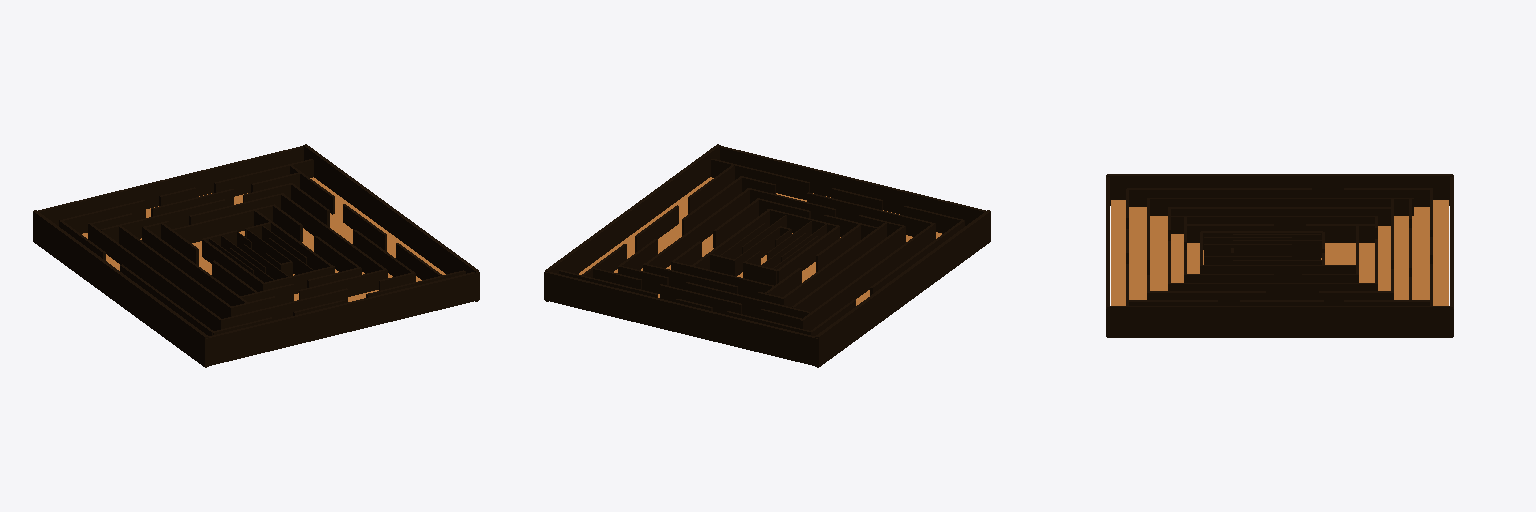
Rendered from maze.obj.
3 renders of one model, left to right at view 1: azimuth 30°, elevation 25°; view 2: azimuth 150°, elevation 25°; view 3: azimuth 270°, elevation 25°, orthographic.
Visible parts, largest first — view 1: Cube_145_Cube.002, Cube_145_002_Cube.013, Cube_145_001_Cube.011, Cube_145_003_Cube.012, Cube_145.037_Cube.028, Cube_145.018_Cube.057, Cube_Cube.004, Cube_145.021_Cube.061, Cube_145.024_Cube.064, Cube_145.026_Cube.066, Cube_145.009_Cube.051, Cube_145.017_Cube.056 (+19 smaller); view 2: Cube_145_001_Cube.011, Cube_145_002_Cube.013, Cube_145_Cube.002, Cube_145_003_Cube.012, Cube_145.037_Cube.028, Cube_145.018_Cube.057, Cube_Cube.004, Cube_145.021_Cube.061, Cube_145.024_Cube.064, Cube_145.009_Cube.051, Cube_145.008_Cube.009, Cube_145.017_Cube.056 (+20 smaller); view 3: Cube_Cube.004, Cube_145_003_Cube.012, Cube_145_002_Cube.013, Cube_145.037_Cube.028, Cube_145.018_Cube.057, Cube_145.021_Cube.061, Cube_145.036_Cube.005, Cube_145.024_Cube.064, Cube_145.032_Cube.072, Cube_145.013_Cube.053, Cube_145.025_Cube.065, Cube_145.007_Cube.022 (+7 smaller).
Part boxes in pixels (left/top/right/bottom): Cube_145_Cube.002: left=206, top=272, right=479, bottom=366; Cube_145_002_Cube.013: left=33, top=210, right=208, bottom=367; Cube_145_001_Cube.011: left=38, top=146, right=303, bottom=225; Cube_145_003_Cube.012: left=303, top=144, right=478, bottom=301; Cube_145.037_Cube.028: left=88, top=223, right=222, bottom=330; Cube_145.018_Cube.057: left=119, top=226, right=231, bottom=318; Cube_Cube.004: left=82, top=177, right=445, bottom=301; Cube_145.021_Cube.061: left=281, top=194, right=386, bottom=273; Cube_145.024_Cube.064: left=142, top=226, right=247, bottom=305; Cube_145.026_Cube.066: left=172, top=205, right=272, bottom=242; Cube_145.009_Cube.051: left=221, top=288, right=347, bottom=328; Cube_145.017_Cube.056: left=101, top=199, right=225, bottom=242; Cube_145_001_Cube.011: left=544, top=272, right=817, bottom=366; Cube_145_002_Cube.013: left=815, top=210, right=990, bottom=367; Cube_145_Cube.002: left=720, top=146, right=985, bottom=225; Cube_145_003_Cube.012: left=545, top=144, right=720, bottom=301; Cube_145.037_Cube.028: left=800, top=223, right=935, bottom=330; Cube_145.018_Cube.057: left=792, top=226, right=905, bottom=312; Cube_Cube.004: left=579, top=177, right=941, bottom=305; Cube_145.021_Cube.061: left=645, top=188, right=749, bottom=267; Cube_145.024_Cube.064: left=781, top=222, right=886, bottom=306; Cube_145.009_Cube.051: left=807, top=192, right=935, bottom=236; Cube_145.008_Cube.009: left=711, top=159, right=809, bottom=199; Cube_145.017_Cube.056: left=685, top=282, right=809, bottom=318; Cube_Cube.004: left=1111, top=200, right=1448, bottom=305; Cube_145_003_Cube.012: left=1107, top=306, right=1452, bottom=337; Cube_145_002_Cube.013: left=1107, top=174, right=1452, bottom=205; Cube_145.037_Cube.028: left=1148, top=198, right=1413, bottom=215; Cube_145.018_Cube.057: left=1168, top=207, right=1390, bottom=225; Cube_145.021_Cube.061: left=1171, top=283, right=1375, bottom=299; Cube_145.036_Cube.005: left=1127, top=188, right=1311, bottom=206; Cube_145.024_Cube.064: left=1170, top=216, right=1377, bottom=233; Cube_145.032_Cube.072: left=1203, top=265, right=1355, bottom=282; Cube_145.013_Cube.053: left=1147, top=291, right=1265, bottom=305; Cube_145.025_Cube.065: left=1306, top=224, right=1374, bottom=242; Cube_145.007_Cube.022: left=1344, top=188, right=1432, bottom=206.
Size of the model in its own units: 362 by 38.66 by 397.